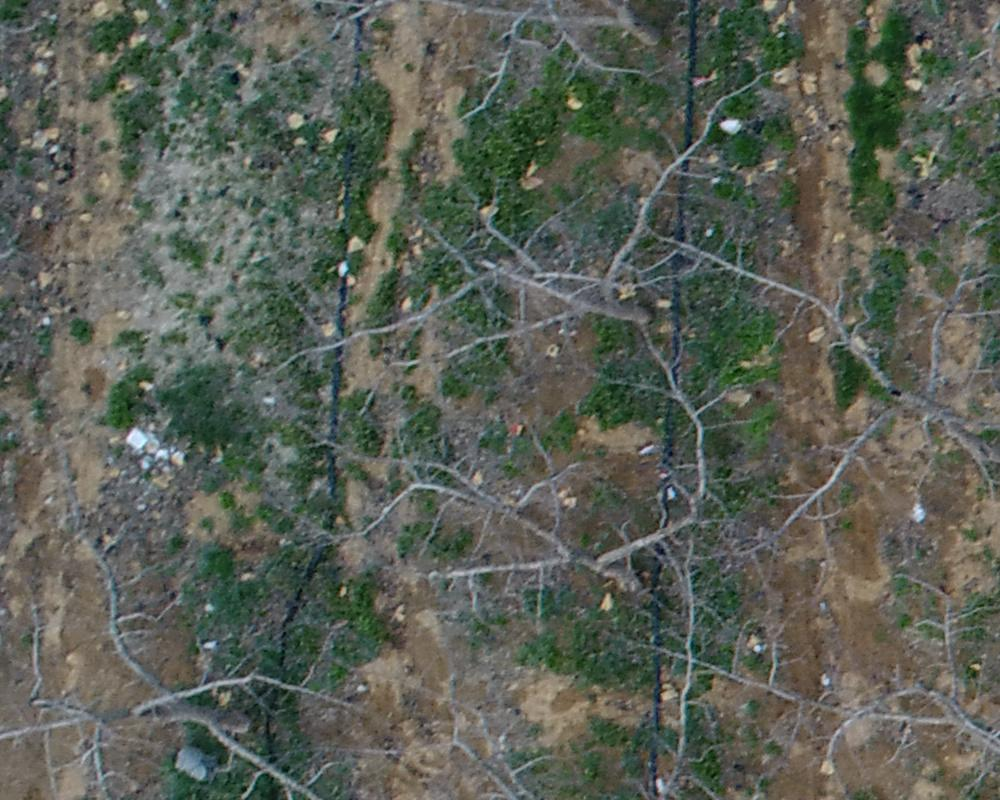apple: (276, 104, 742, 496), (14, 514, 413, 790), (663, 220, 990, 540), (290, 419, 751, 632), (697, 576, 990, 790)
